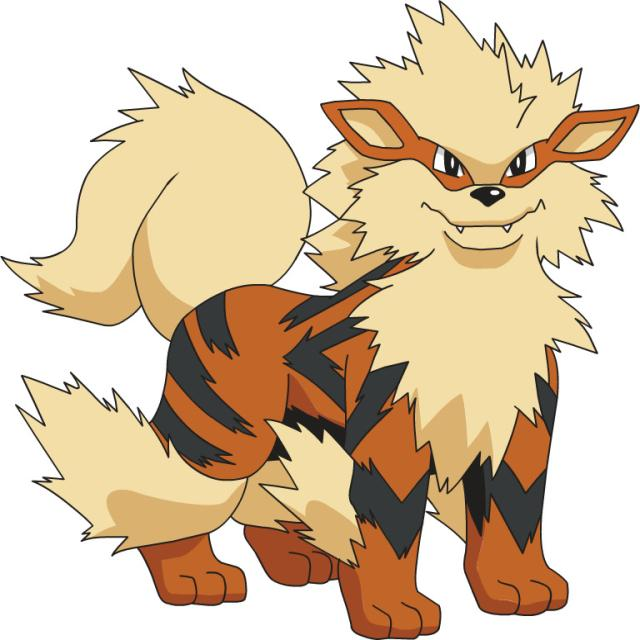Arcanine: (114, 16, 596, 596)
